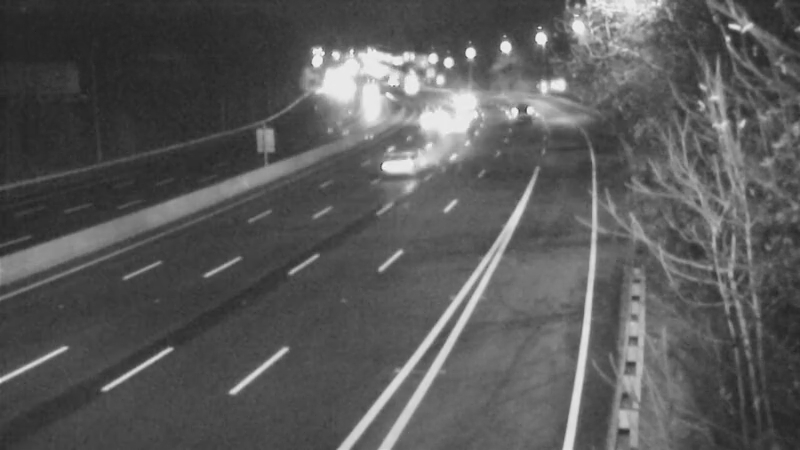vehicle: (362, 127, 442, 207), (441, 75, 491, 125), (439, 92, 489, 142), (491, 83, 541, 133), (406, 87, 456, 137), (427, 104, 477, 154), (339, 68, 389, 118)
